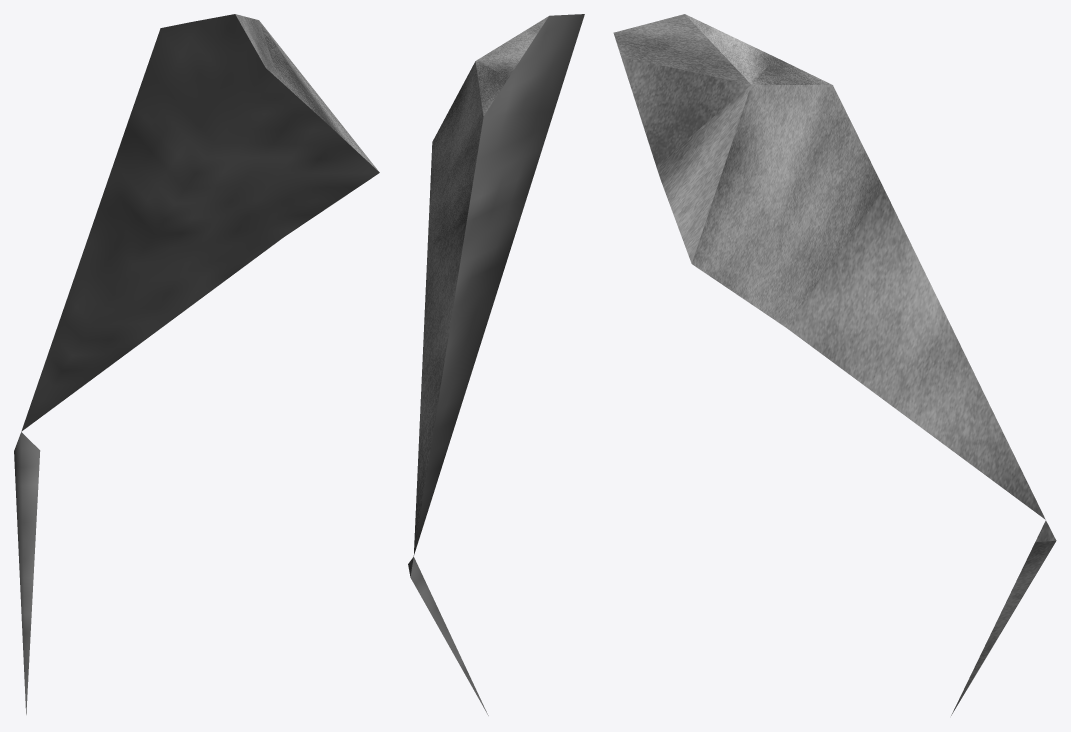
File: leg_1_cell_013.fbx
3 renders of one model, left to right at view 1: azimuth 30°, elevation 25°; view 2: azimuth 150°, elevation 25°; view 3: azimuth 270°, elevation 25°, orthographic. The views are drawn at different scales.
Visible parts, largest first — view 1: leg_1_cell.013; view 2: leg_1_cell.013; view 3: leg_1_cell.013.
Boxes of the visible parts, box(x1,y1,x2,y2) form: leg_1_cell.013: box(14, 14, 379, 714); leg_1_cell.013: box(408, 14, 584, 715); leg_1_cell.013: box(613, 14, 1056, 715).
Size of the model in its own units: 8.18 by 28.93 by 15.84.
